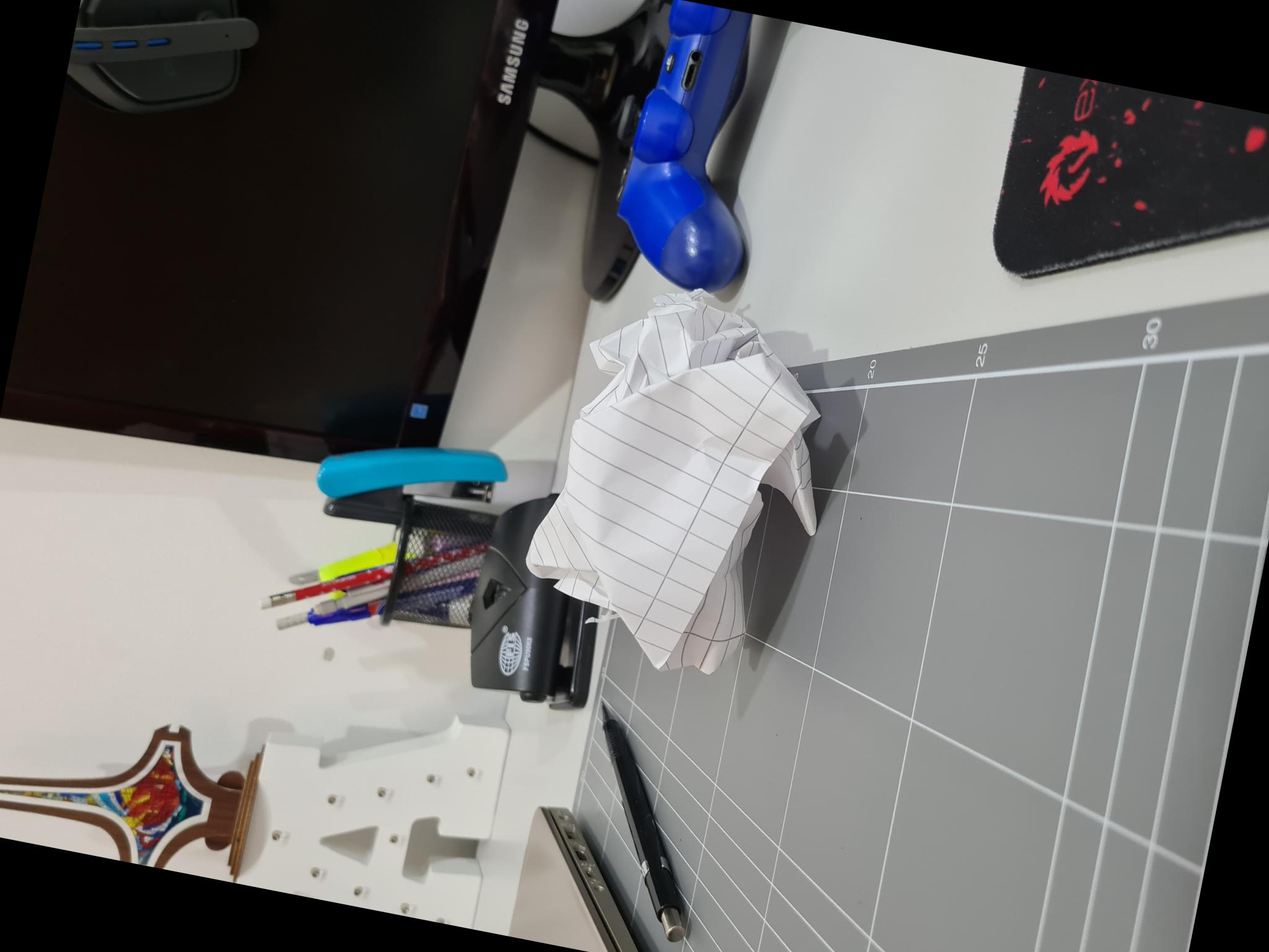Kertas: (279, 494, 633, 785)
